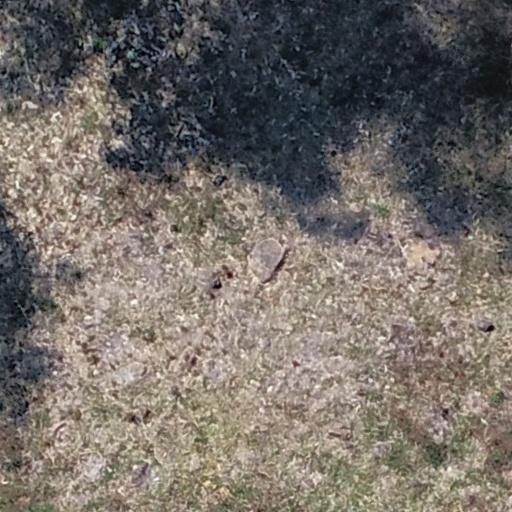stone: (249, 238, 284, 284)
